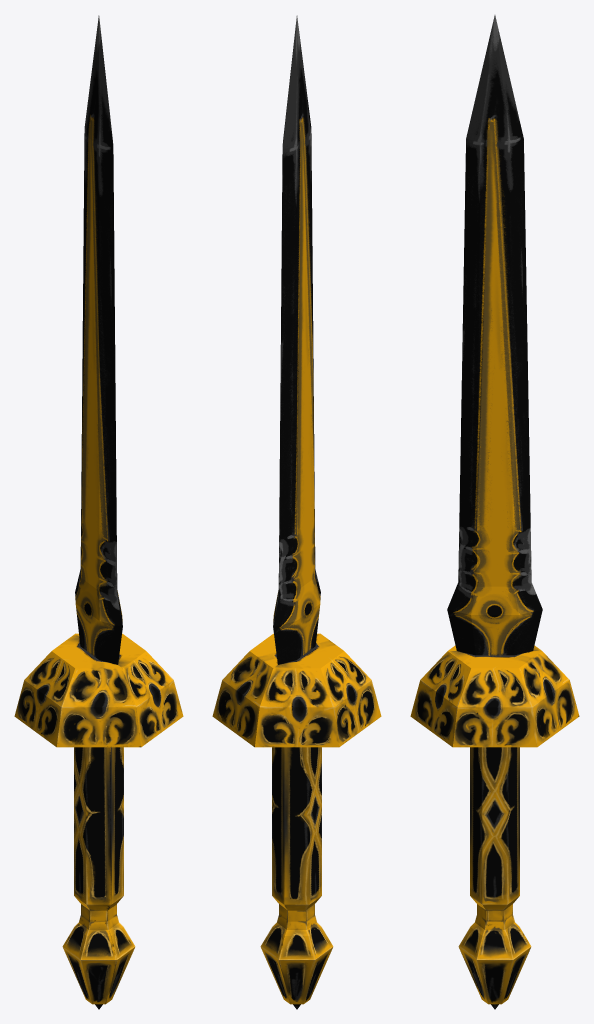
The model's file is ow-Sword.glb.
3 views of the same model, side by side, from view 1: azimuth 30°, elevation 25°; view 2: azimuth 150°, elevation 25°; view 3: azimuth 270°, elevation 25° (orthographic).
Visible parts, largest first — view 1: Sword; view 2: Sword; view 3: Sword.
Boxes of the visible parts, <box> form: Sword: <box>14,15,183,1009</box>; Sword: <box>212,15,381,1009</box>; Sword: <box>410,15,579,1009</box>.
Size of the model in its own units: 0.244 by 1.83 by 0.2818.
Materials: 1 (1 with a texture image).
